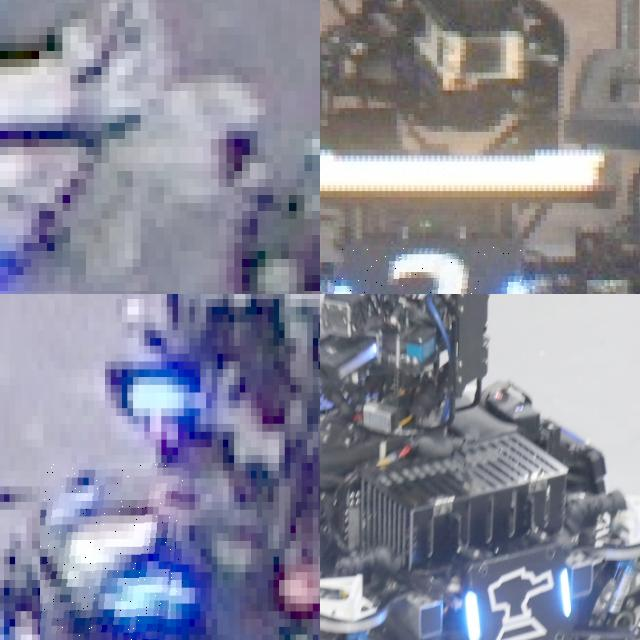B3: (333, 247, 526, 294)
B4: (40, 462, 186, 640)
Bs: (464, 546, 571, 640)
